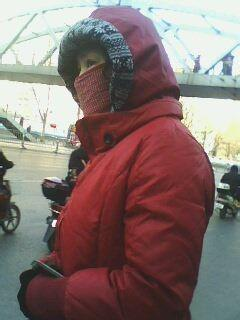OK: (72, 60, 121, 114)
